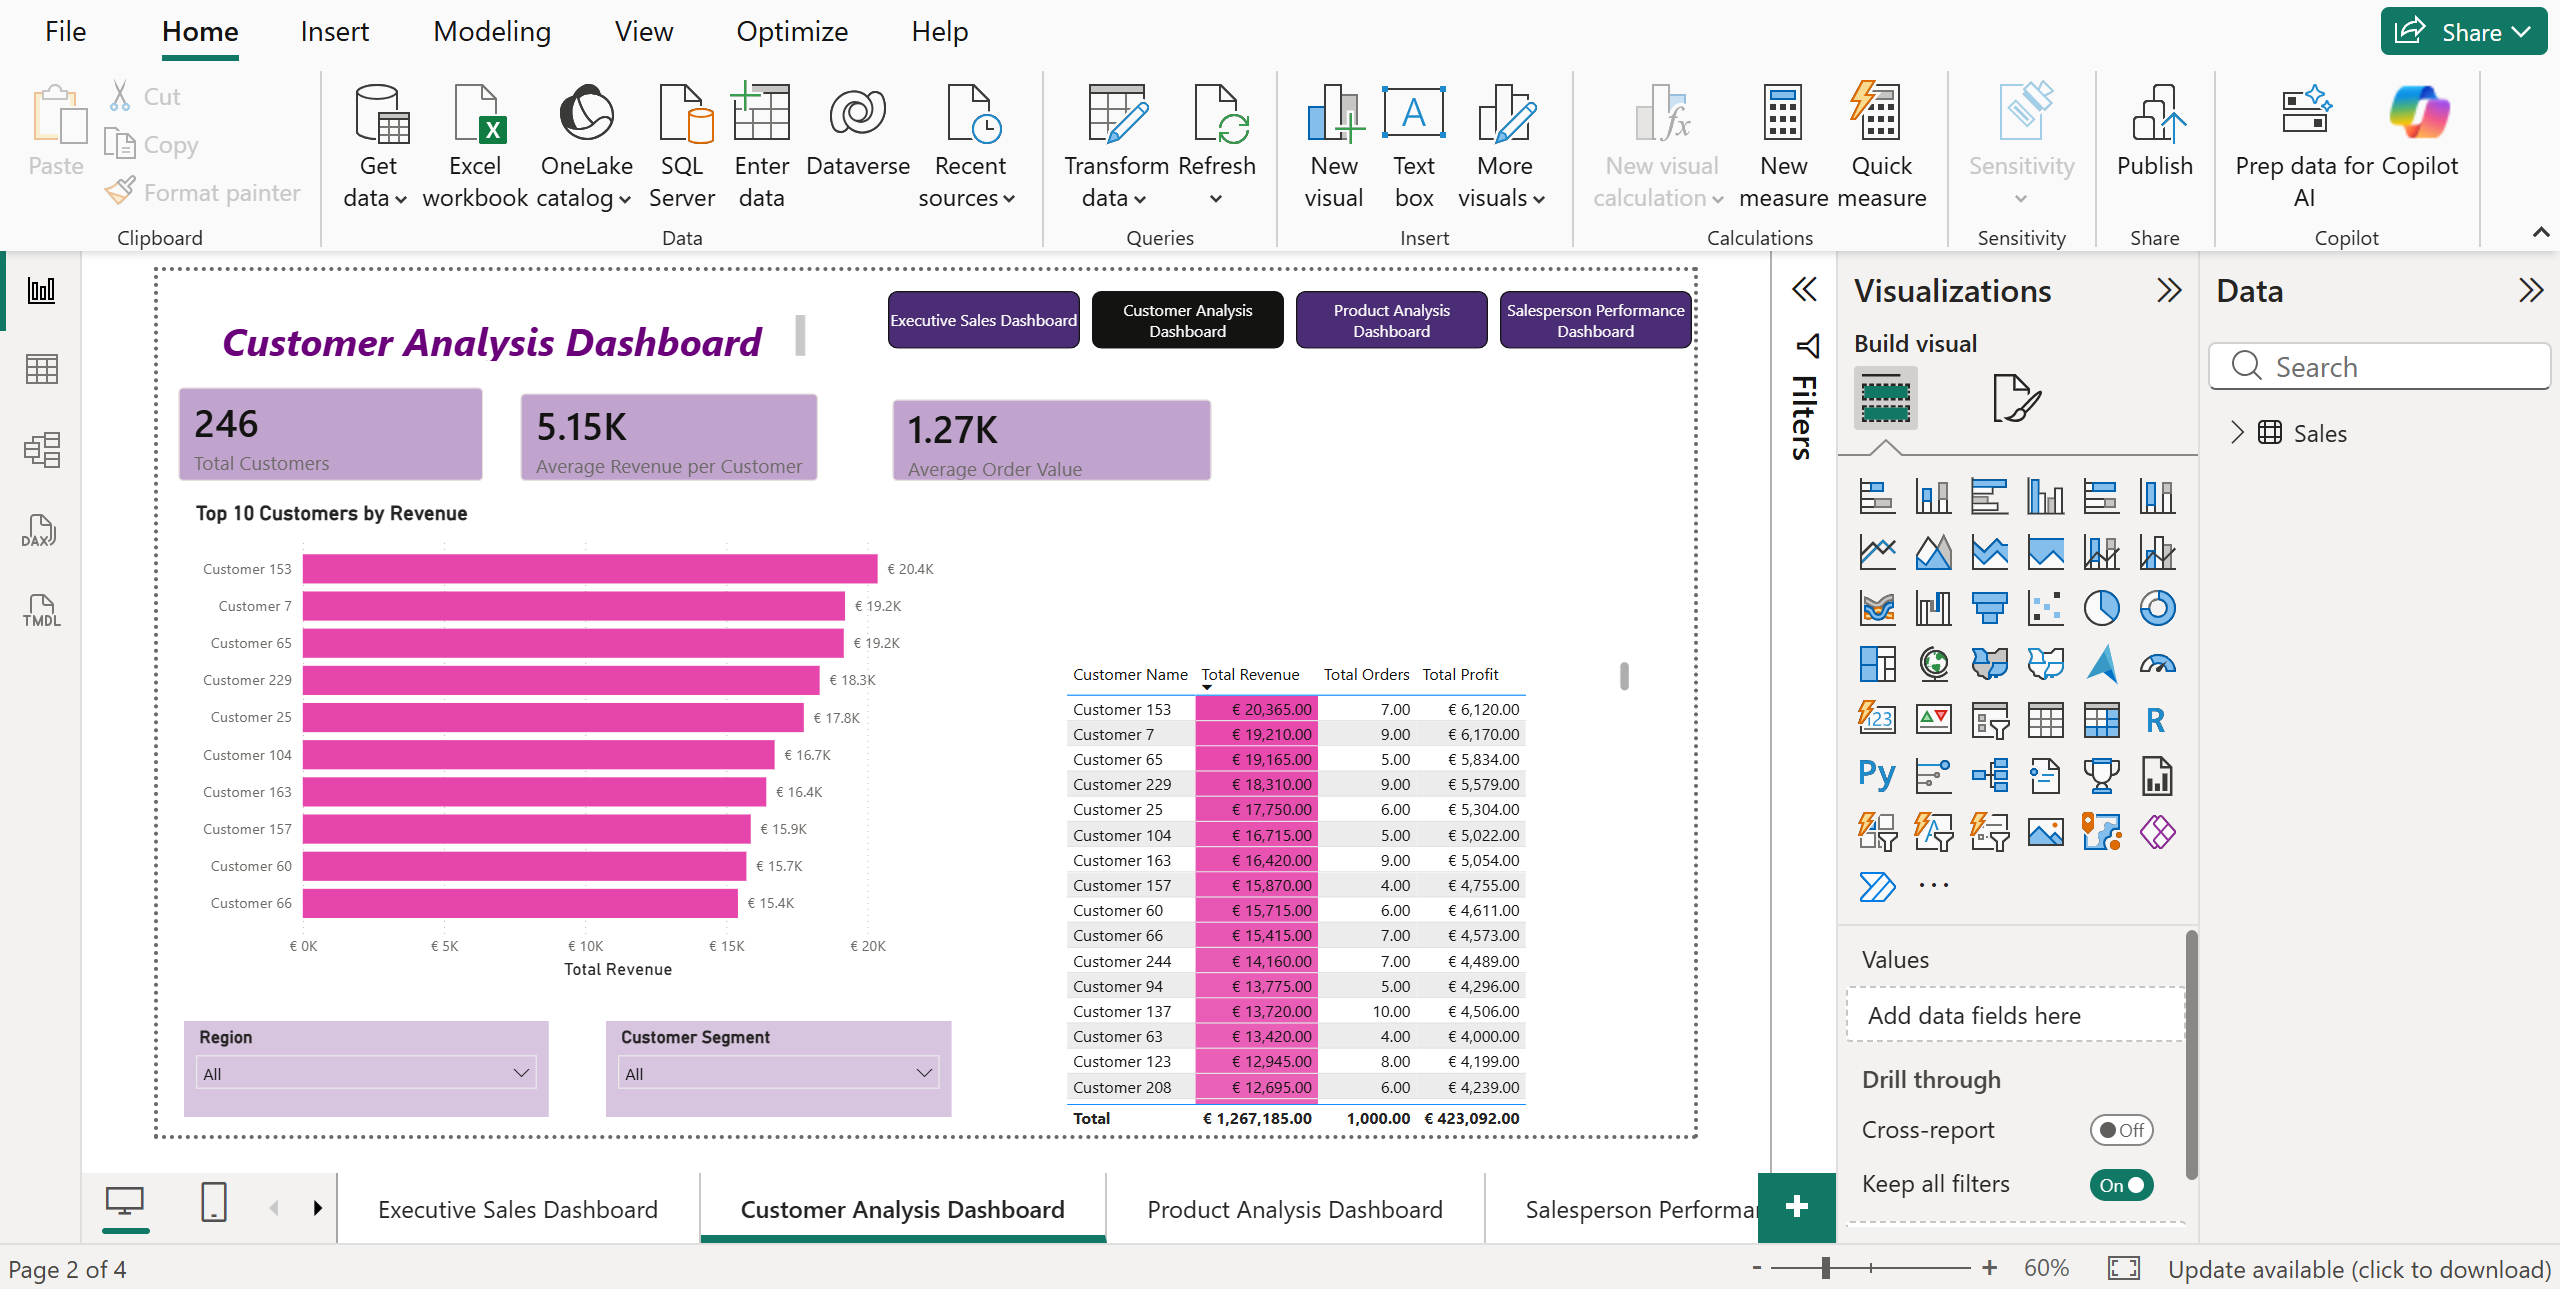

The dashboard page shown, as its layout file describes it:
{"tool":"powerbi","page":{"name":"Customer Analysis Dashboard","canvas":[1280,720],"ordinal":1},"visuals":[{"type":"cardVisual","fields":{"Data":["Sales.Total Customers"]},"box":[0,80,288,112],"z":0},{"type":"cardVisual","fields":{"Data":["Sales.Average Revenue per Customer"]},"box":[285.2,85.1,282.9,107.1],"z":1000},{"type":"cardVisual","fields":{"Data":["Sales.Average Order Value"]},"box":[595.2,89.3,300,102.9],"z":2000},{"type":"clusteredBarChart","title":"Top 10 Customers by Revenue","fields":{"Category":["Sales.Customer Name"],"Y":["Sales.Total Revenue"]},"box":[26.6,192.2,640,402.9],"z":3000},{"type":"tableEx","fields":{"Values":["Sales.Customer Name","Sales.Total Revenue","Sales.Total Orders","Sales.Total Profit"]},"box":[752,320,480,400],"z":4000},{"type":"slicer","fields":{"Values":["Sales.Region"]},"box":[21.2,625.6,304,80],"z":5000},{"type":"slicer","fields":{"Values":["Sales.Customer Segment"]},"box":[373.2,625.6,288,80],"z":6000},{"type":"textbox","box":[48,32,496,48],"z":7000},{"type":"pageNavigator","box":[608,16,672,48],"z":8000}]}

Visuals, with their boxes on the page's 1280x720 design canvas (x1, y1, x2, y2). These are canvas units, not pixel positions in the 2560x1289 screenshot, which may show the page scaled, cropped or inside an application window:
cardVisual - Sales.Total Customers: region(0, 80, 288, 192)
cardVisual - Sales.Average Revenue per Customer: region(285, 85, 568, 192)
cardVisual - Sales.Average Order Value: region(595, 89, 895, 192)
"Top 10 Customers by Revenue" clusteredBarChart: region(27, 192, 667, 595)
tableEx - Sales.Customer Name x Sales.Total Revenue: region(752, 320, 1232, 720)
slicer - Sales.Region: region(21, 626, 325, 706)
slicer - Sales.Customer Segment: region(373, 626, 661, 706)
textbox: region(48, 32, 544, 80)
pageNavigator: region(608, 16, 1280, 64)
